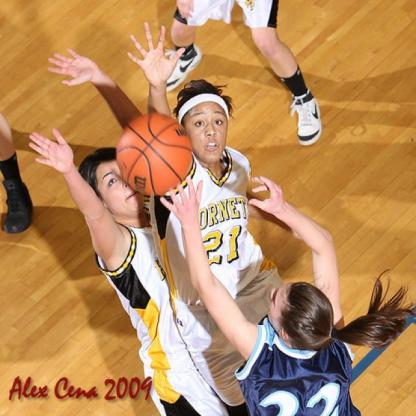basketball: (117, 114, 194, 194)
